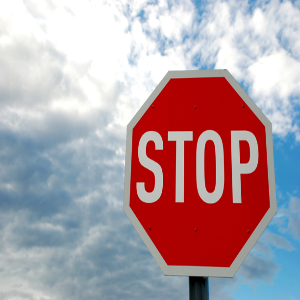STOP_SIGN: (125, 70, 277, 277)
